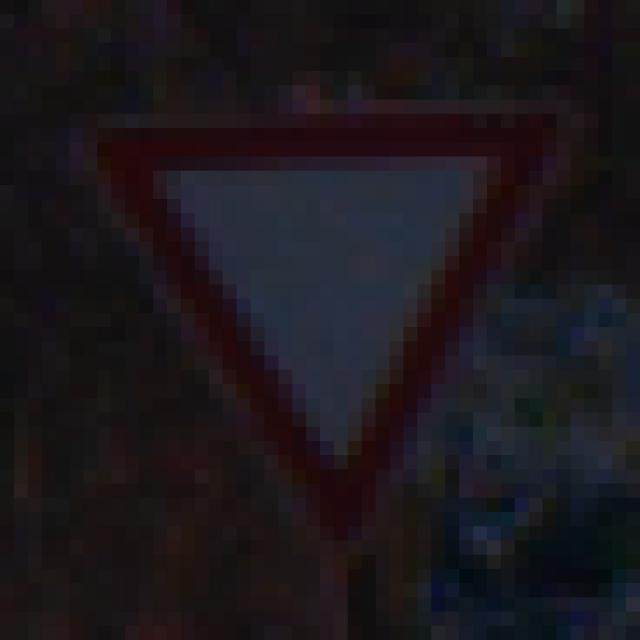Give Way: (71, 86, 572, 570)
